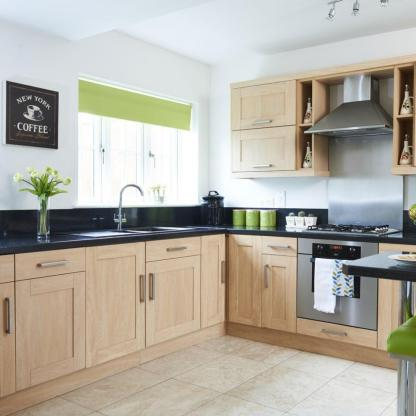Cabinet: (0, 235, 415, 414)
